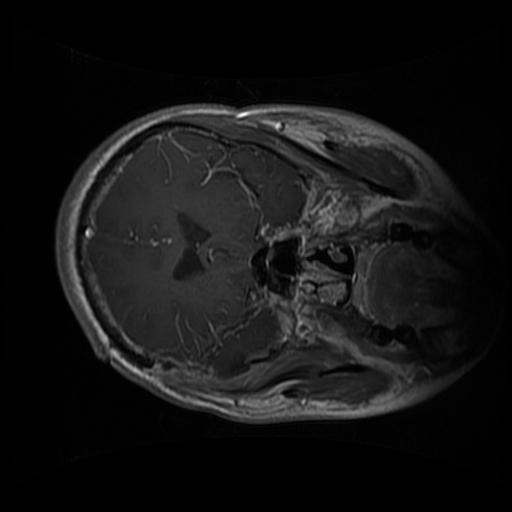glioma: (189, 305, 278, 377)
